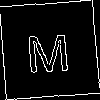M: (24, 24, 72, 73)
